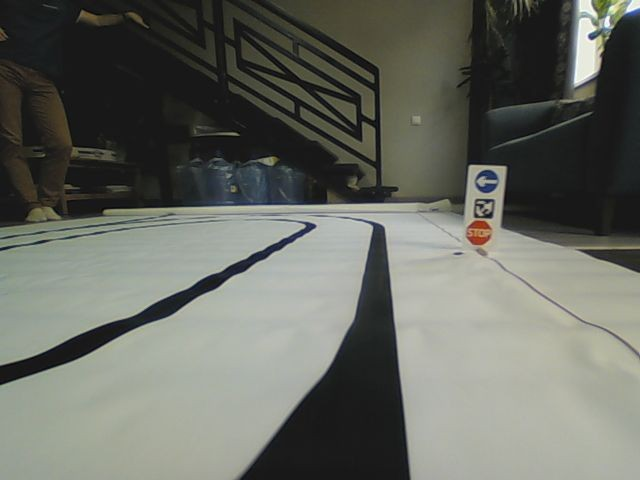Stop: (466, 220, 493, 246)
